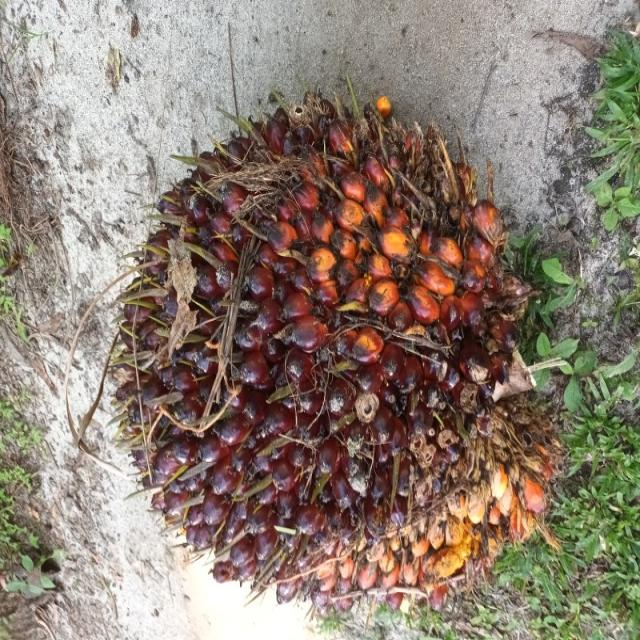fraksi 1: (48, 0, 556, 570)
